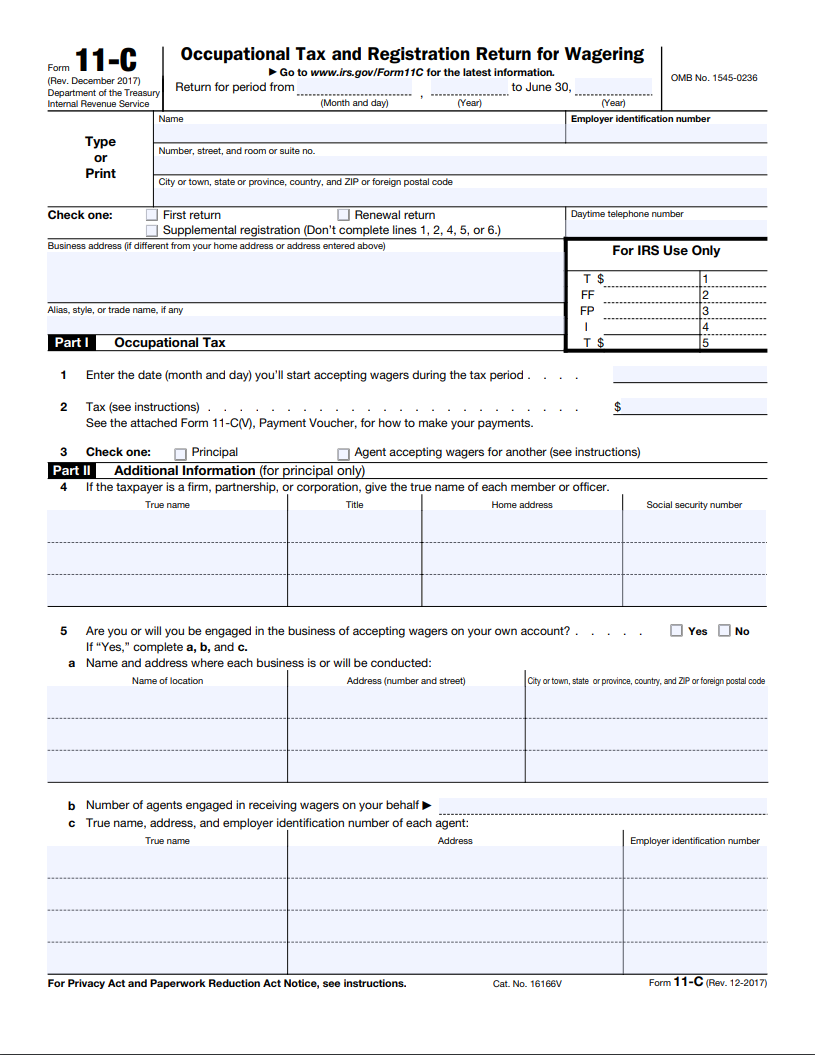checkbox: (144, 204, 160, 223), (144, 218, 160, 237), (335, 203, 351, 222), (173, 445, 189, 464), (336, 444, 352, 463), (667, 621, 683, 640), (716, 620, 732, 639)
textbox: (43, 234, 572, 308), (150, 138, 769, 180), (150, 168, 769, 210), (41, 298, 568, 338), (150, 108, 571, 147), (283, 839, 629, 882), (282, 871, 628, 914), (281, 901, 627, 944), (283, 935, 629, 978), (279, 680, 529, 725), (278, 709, 528, 754), (278, 742, 528, 787), (521, 678, 771, 723), (520, 712, 770, 757), (520, 742, 770, 787), (41, 507, 291, 549), (40, 536, 290, 578), (40, 569, 290, 611), (43, 684, 293, 726), (42, 713, 292, 755), (42, 744, 292, 786), (41, 841, 291, 883), (41, 873, 291, 915), (43, 907, 293, 949), (41, 935, 291, 977), (417, 504, 628, 546), (413, 536, 624, 578), (414, 567, 625, 609), (560, 107, 772, 147), (562, 204, 773, 243), (617, 505, 770, 548), (618, 536, 771, 579), (619, 566, 772, 609), (618, 840, 769, 883), (619, 871, 770, 914), (619, 904, 770, 947), (619, 935, 770, 978), (283, 504, 426, 546), (281, 536, 424, 578), (282, 569, 425, 611), (595, 267, 704, 290), (593, 281, 702, 304), (593, 298, 702, 321), (593, 314, 702, 337), (595, 331, 704, 354), (694, 268, 769, 291), (695, 284, 770, 307), (695, 298, 770, 321), (697, 314, 772, 337), (695, 328, 770, 351)
textline: (432, 799, 773, 819), (608, 366, 776, 385), (612, 397, 780, 416), (295, 81, 416, 99), (426, 79, 509, 98), (572, 78, 655, 97)
